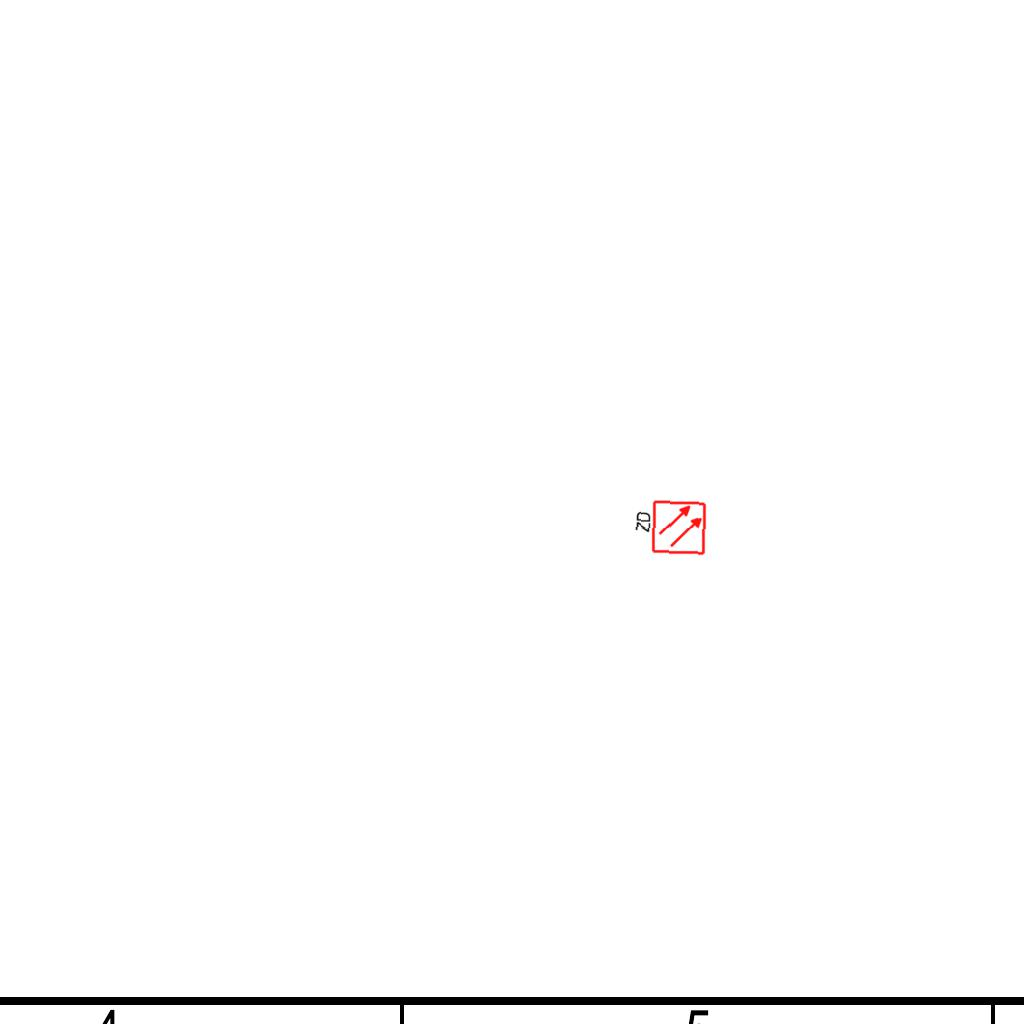ZD_Melder_in_Zwischendecke_mit_Revisionsoeffnung_mind_40_x_40_cm: (631, 498, 708, 558)
